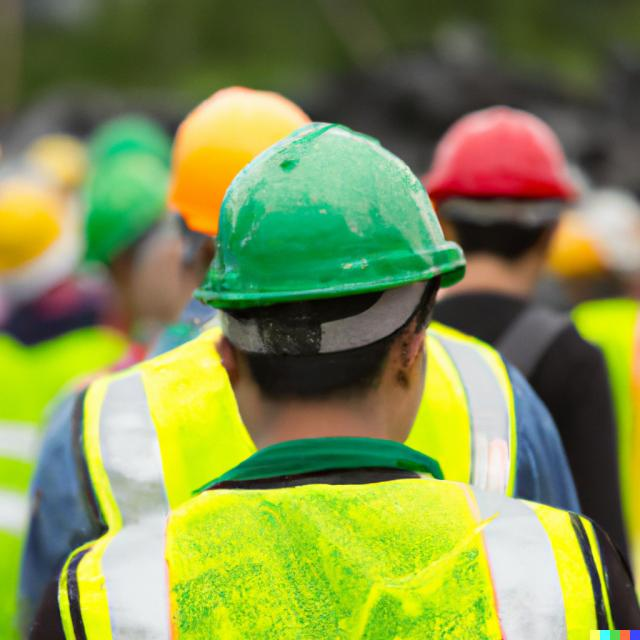Reflective-Jacket: (57, 332, 552, 639), (565, 291, 640, 631)
Safety-Helmet: (195, 125, 467, 306), (165, 80, 330, 236), (413, 99, 582, 211)
